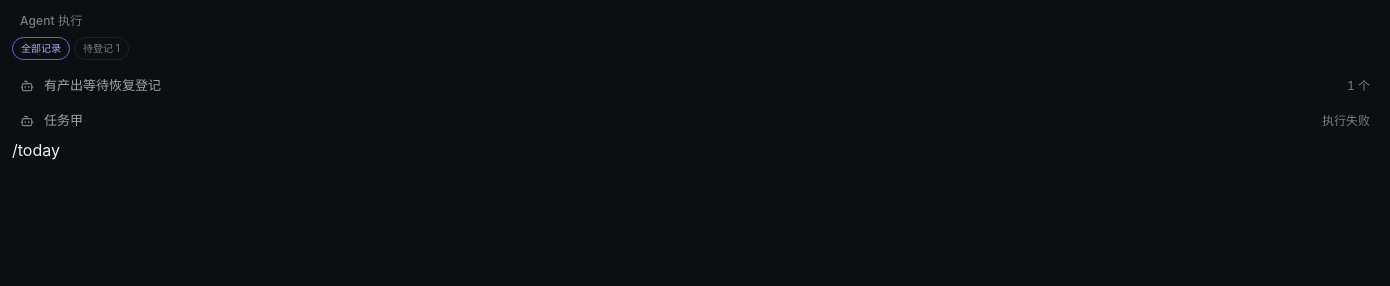
Test: AgentsTab › displays only the fixed explanation for AGENT_MODEL_RESPONSE_INVALID in exact Run detail
Step 1. Click the text "任务甲" → x=64, y=120, box [44,112,83,128]
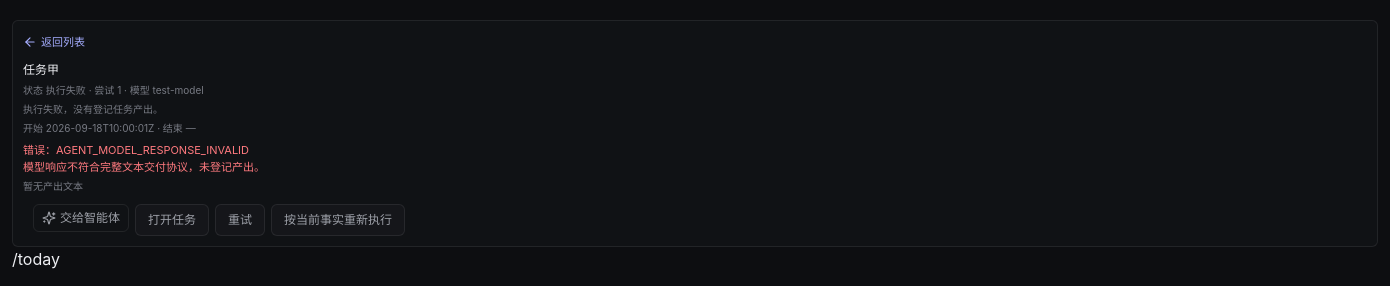
Expected: the text "模型响应不符合完整文本交付协议，未登记产出。" is shown, [23,160,265,174]
